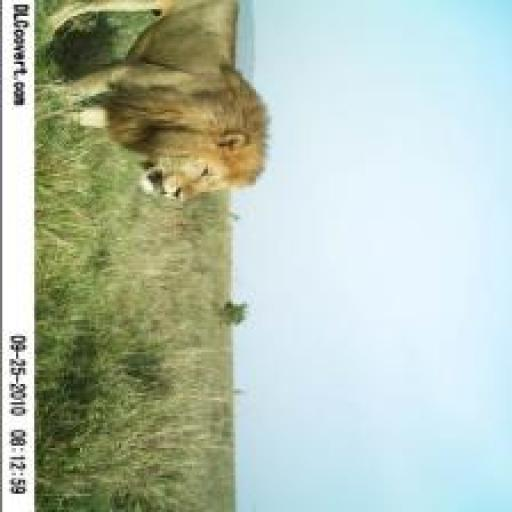lion: (34, 4, 293, 206)
